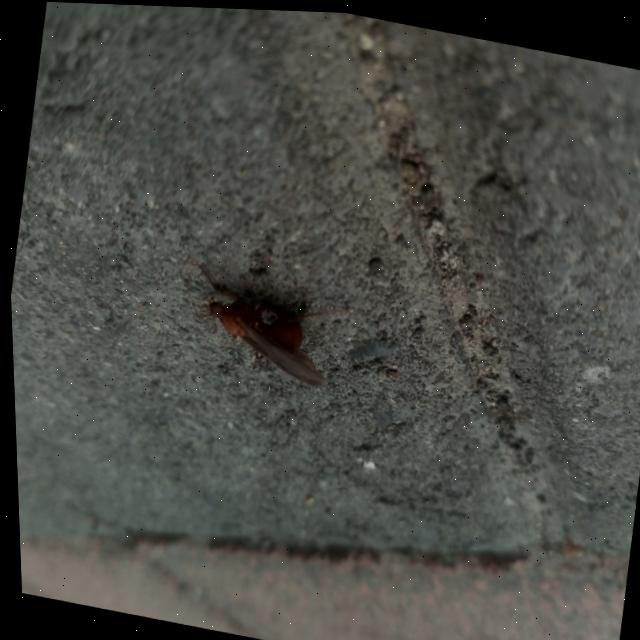Alive-Male-Alate: (181, 262, 353, 390)
